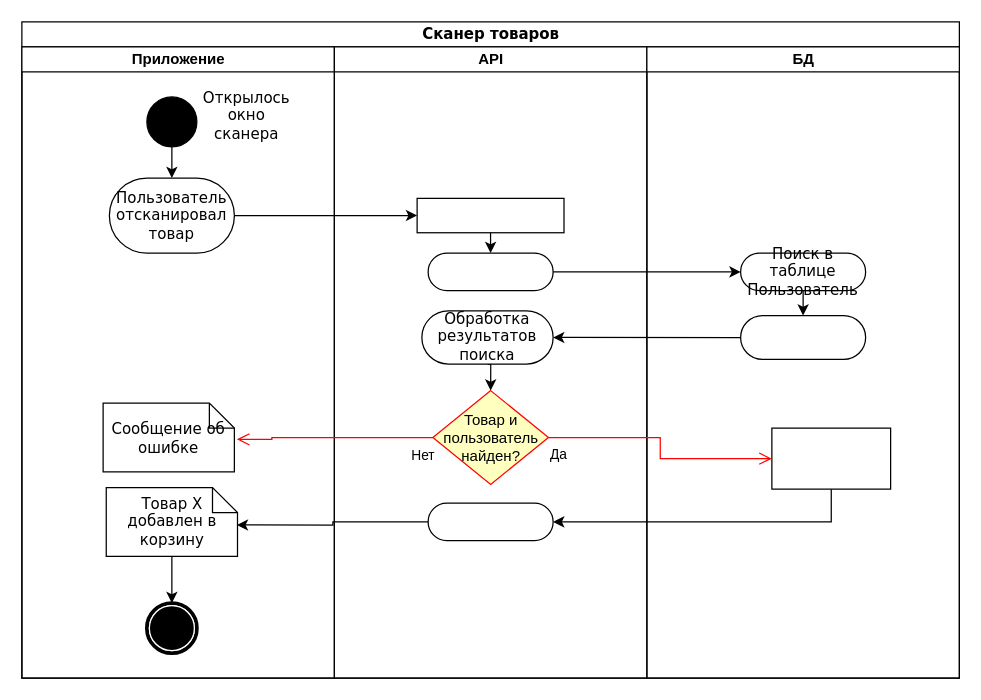
Some shapes in this 981 by 700 pixel diagram are drawn without their labels. Each missing label, with the centre of its shape:
"Валидация токена из приложения" goes at (x=490, y=271).
"Метод POST /users/<user-id>/cart" goes at (x=490, y=215).
"Новая запись в таблице Корзина" goes at (x=831, y=458).
"Поиск в таблице Товары" goes at (x=802, y=336).
"Формирование ответа" goes at (x=490, y=521).
